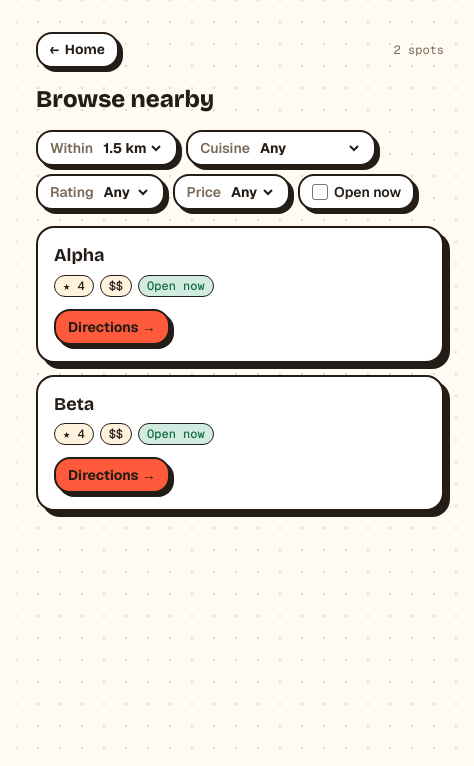
Test: BrowseView › filters by a cuisine found in the results
The image size is (474, 766).
Check: the heading "Alpha" is shown, box [54,244,105,266]
Select "Italian (1)" in the dropdown labelled "Cuisine" at (309, 148), box [256,138,362,158]
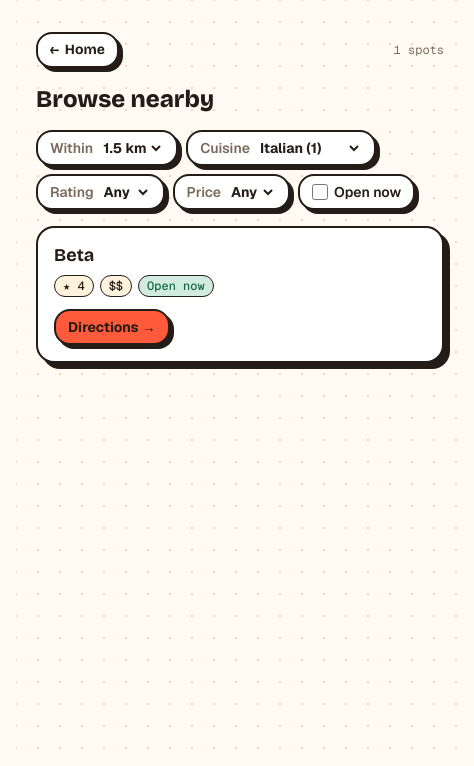
Check: the heading "Beta" is shown, box [54,244,94,266]
Check: the heading "Alpha" is gone
